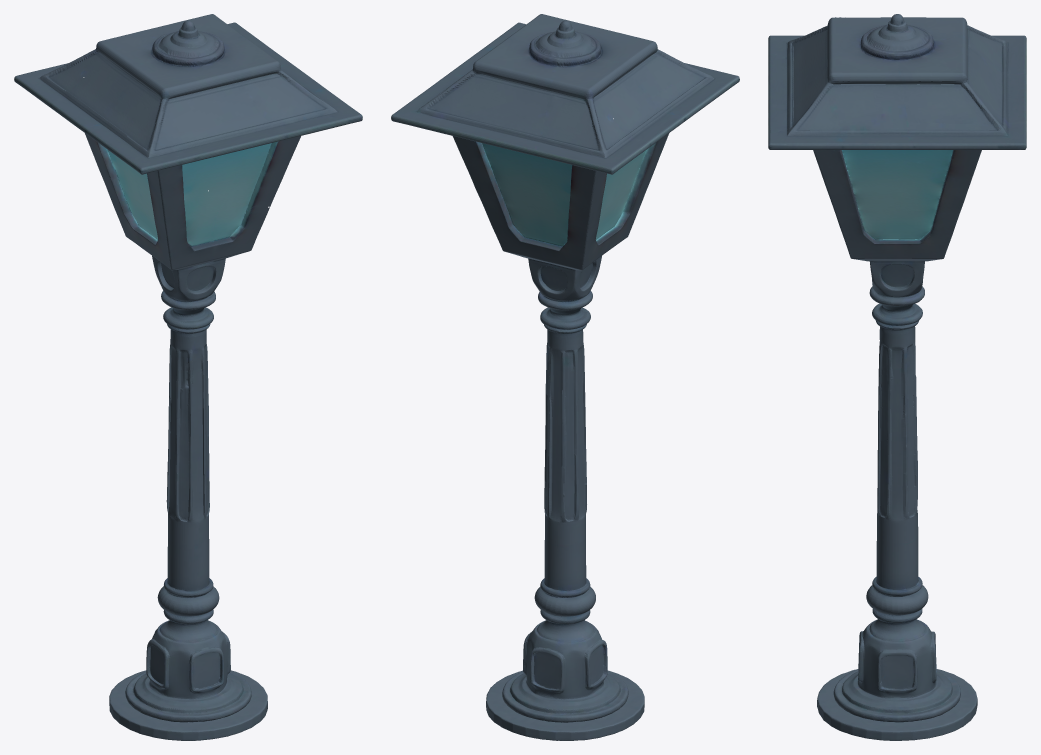
The model's file is farola.glb.
3 views of the same model, side by side, from view 1: azimuth 30°, elevation 25°; view 2: azimuth 150°, elevation 25°; view 3: azimuth 270°, elevation 25° (orthographic).
Visible parts, largest first — view 1: tripo_node_fafbcbc3-9dde-4c82-bf83-189ff8bf6ccd; view 2: tripo_node_fafbcbc3-9dde-4c82-bf83-189ff8bf6ccd; view 3: tripo_node_fafbcbc3-9dde-4c82-bf83-189ff8bf6ccd.
Boxes of the visible parts, x1,y1,x2,y2 form: tripo_node_fafbcbc3-9dde-4c82-bf83-189ff8bf6ccd: (14,14,362,740); tripo_node_fafbcbc3-9dde-4c82-bf83-189ff8bf6ccd: (391,14,739,740); tripo_node_fafbcbc3-9dde-4c82-bf83-189ff8bf6ccd: (768,14,1026,740).
Size of the model in its own units: 0.3389 by 0.9994 by 0.3379.
1 material, 1 textured.
